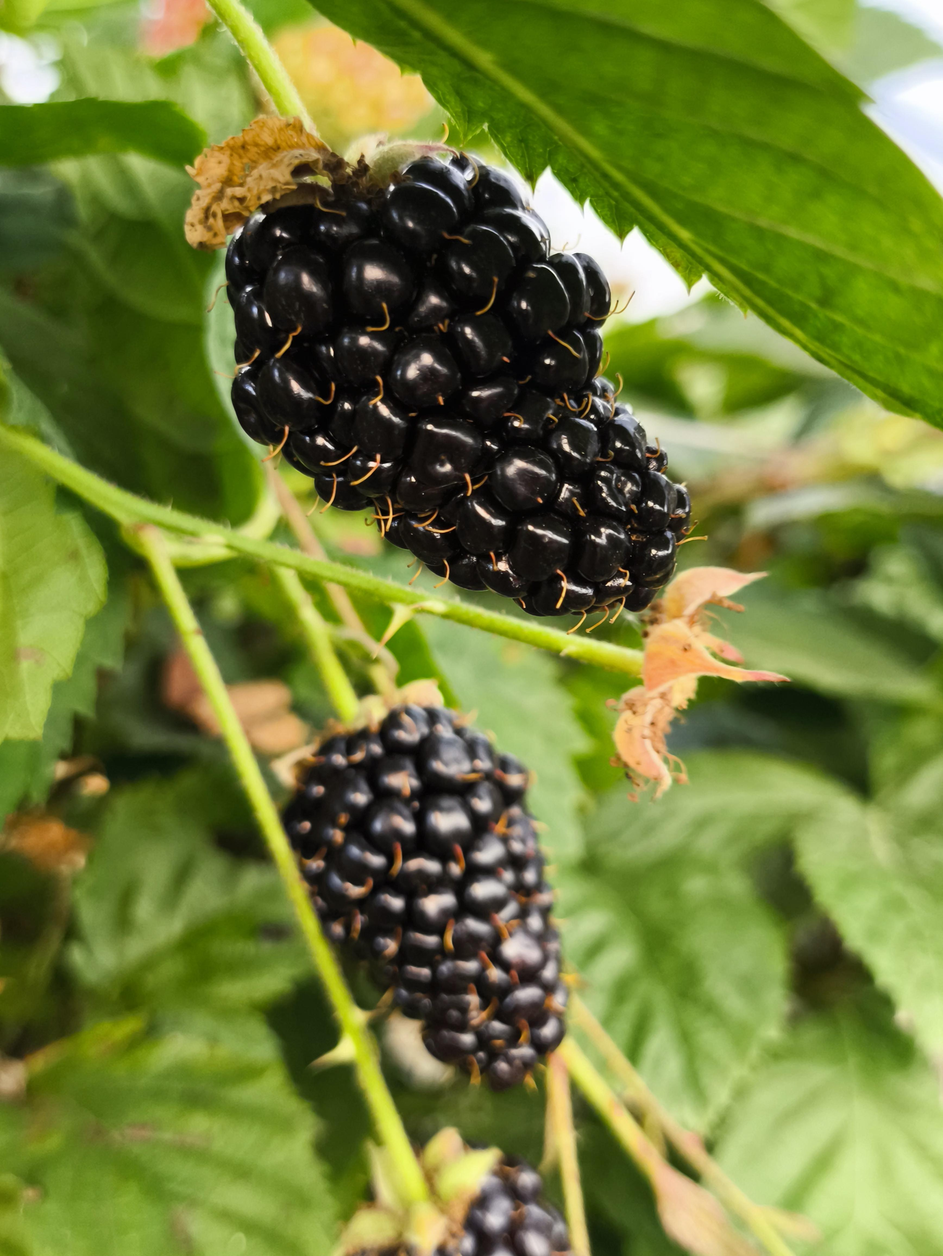maduro: (231, 151, 603, 522), (285, 710, 559, 1092), (383, 367, 680, 613)
